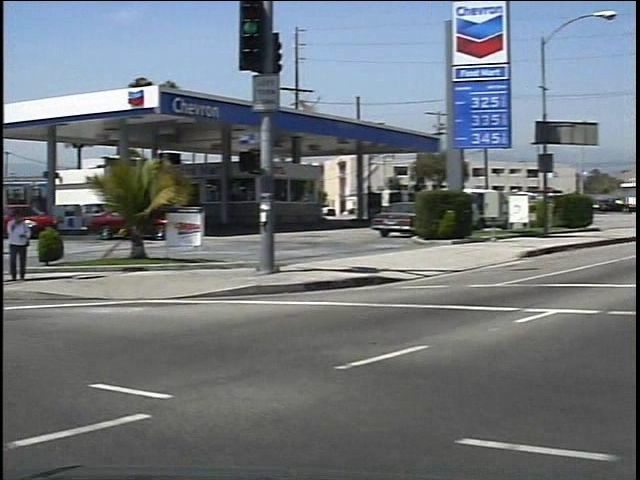person: (4, 203, 33, 287)
